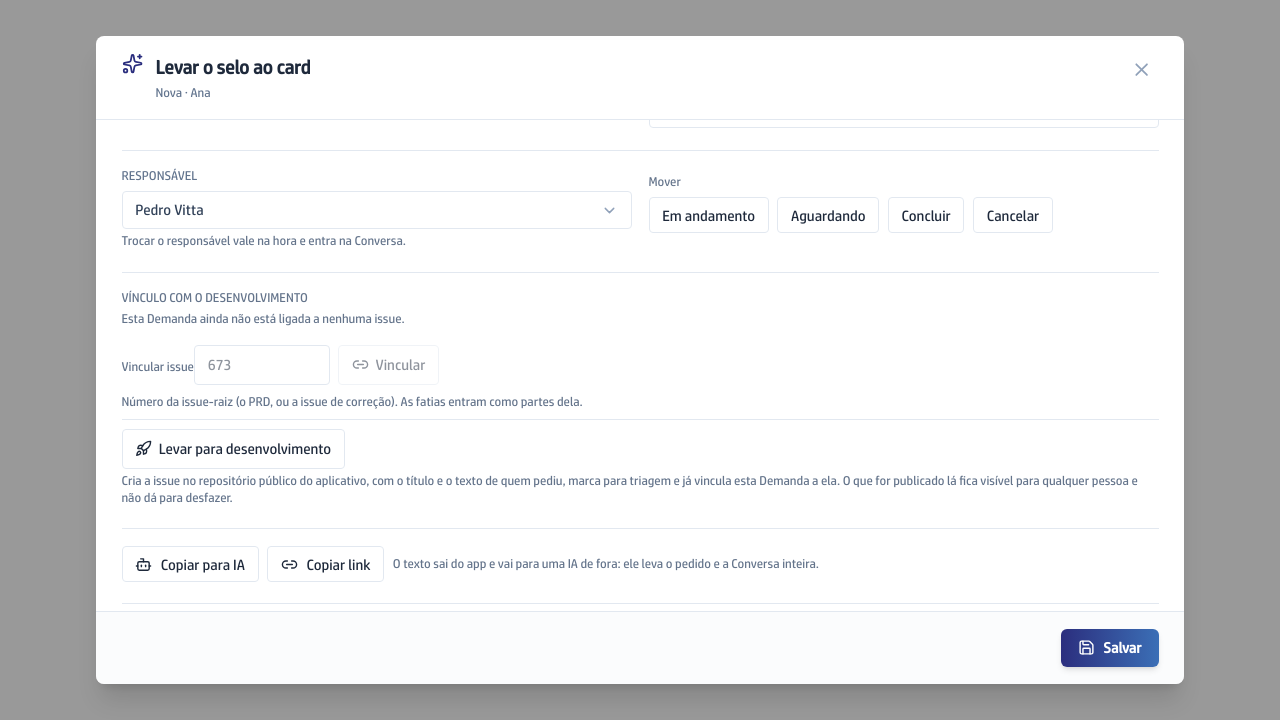
it: O que o modal manda ao servidor › a recusa do servidor aparece na tela com a frase DELE
The image size is (1280, 720).
(page scrolled)
Type "999" into the number field labelled "Vincular issue". click: [262, 365]
box: 194,345 -> 330,385
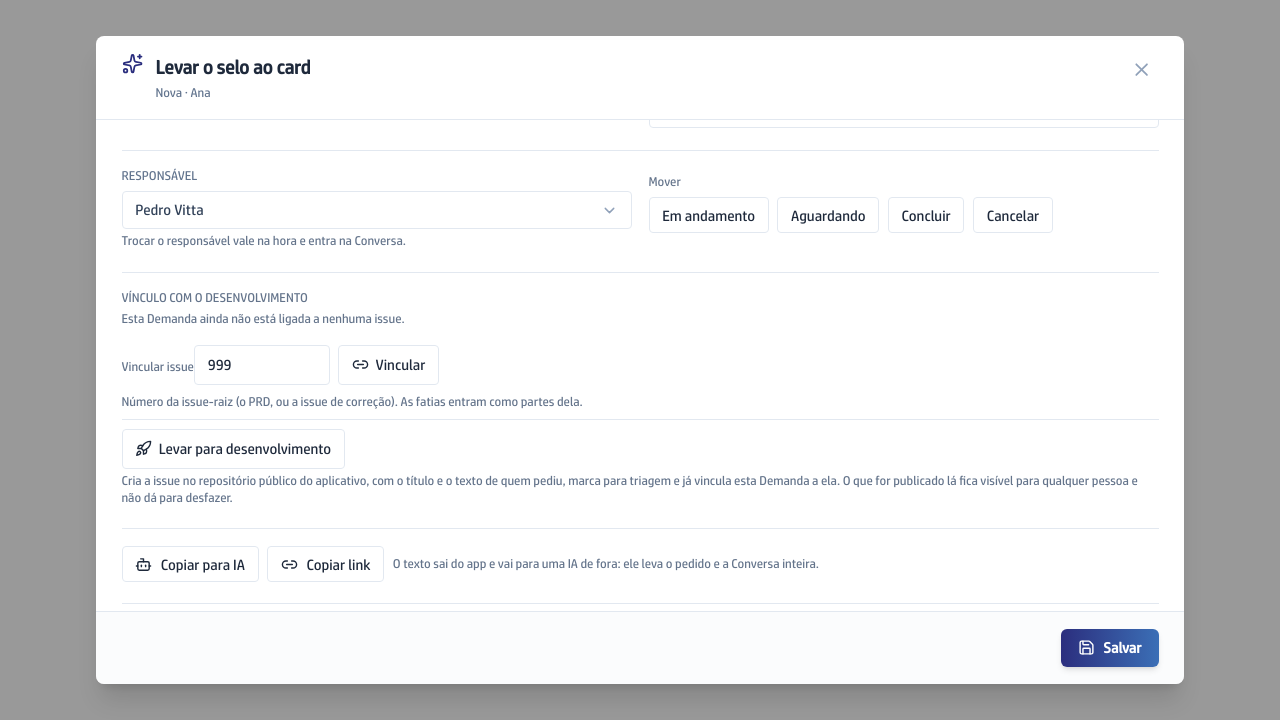
Click the button "Vincular". click: [389, 365]
box: 338,345 -> 439,385
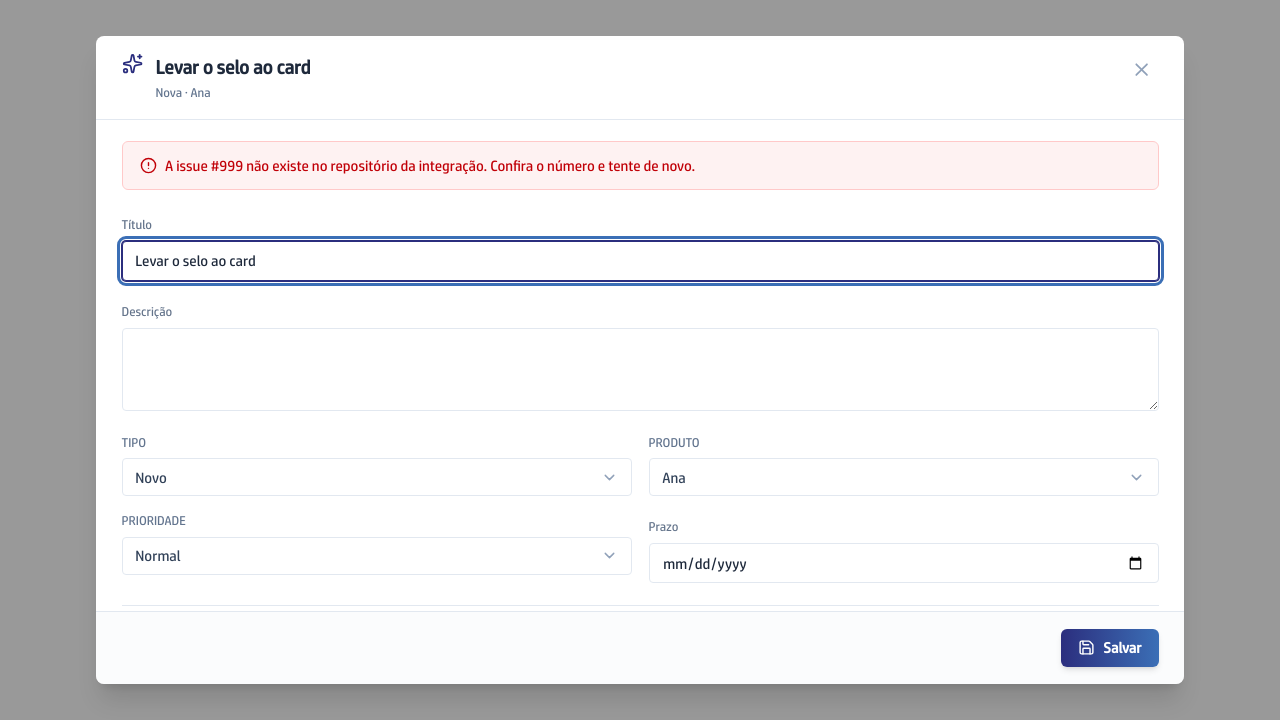
Expected: the text "A issue #999 não existe no repositório da integração. Confira o número e tente de novo." is shown, 165,157 -> 695,174
